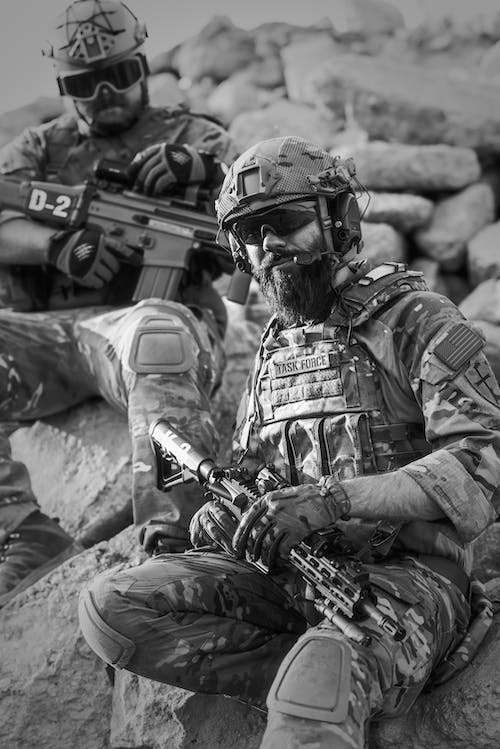gun: (146, 413, 410, 655), (0, 155, 234, 309)
